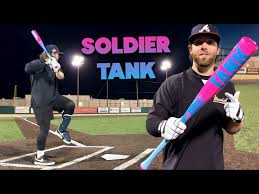baseball bat: (140, 36, 258, 169), (28, 27, 60, 70)
